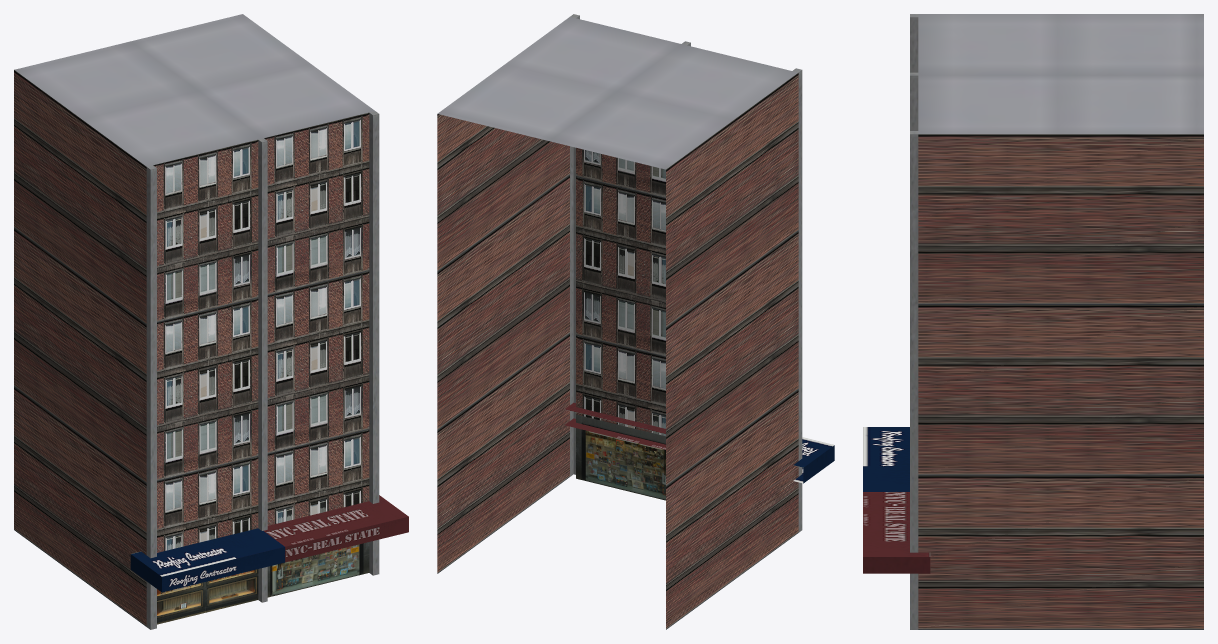
File: Citybuilding08.fbx
The picture shows the model from 3 angles, left to right: view 1: azimuth 30°, elevation 25°; view 2: azimuth 150°, elevation 25°; view 3: azimuth 270°, elevation 25°; orthographic projection. The views are drawn at different scales.
Visible parts, largest first — view 1: Citybuilding08; view 2: Citybuilding08; view 3: Citybuilding08.
Boxes of the visible parts, x1,y1,x2,y2 form: Citybuilding08: (14,14,408,629); Citybuilding08: (437,14,834,629); Citybuilding08: (863,14,1203,629).
Bounding box in the file's own units: 2669 × 4754 × 2962.
